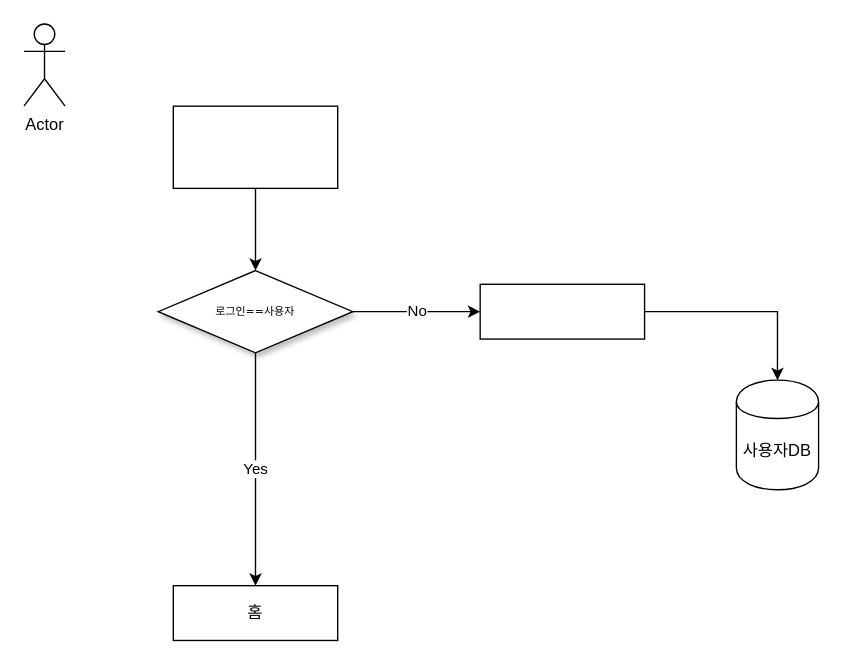
Image size: 843x664. Some labels were removed from this diagram. Each missing label, with the centre of its shape:
로그인: (255,146)
회원가입: (562,311)
